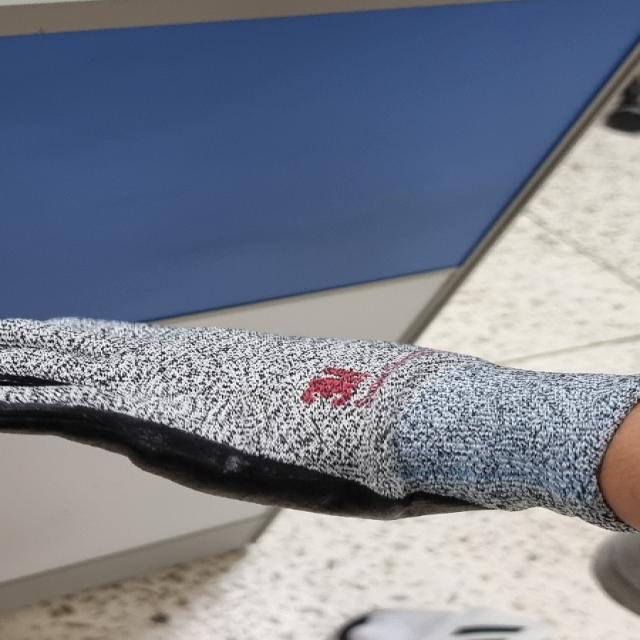Gloves: (1, 307, 640, 537)
